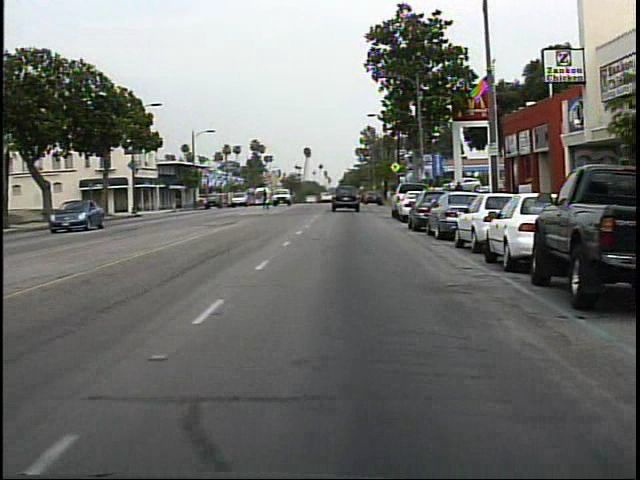person: (450, 177, 470, 219), (260, 185, 274, 215)
